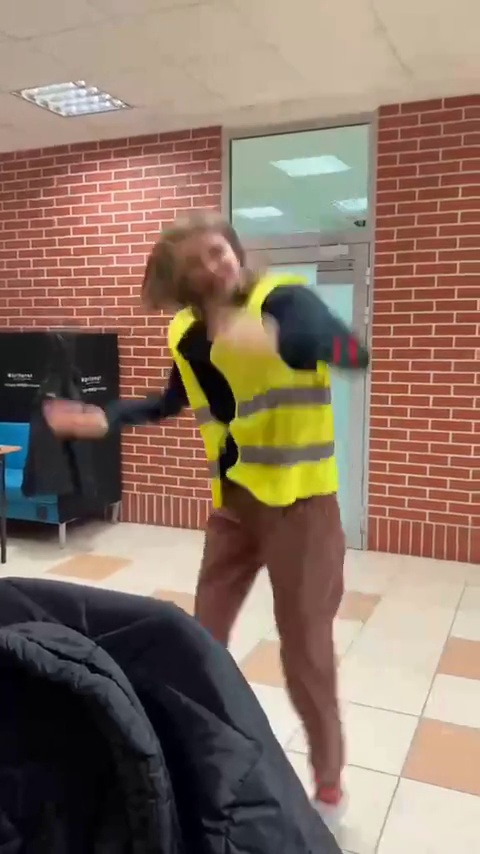vest: (109, 220, 372, 830)
